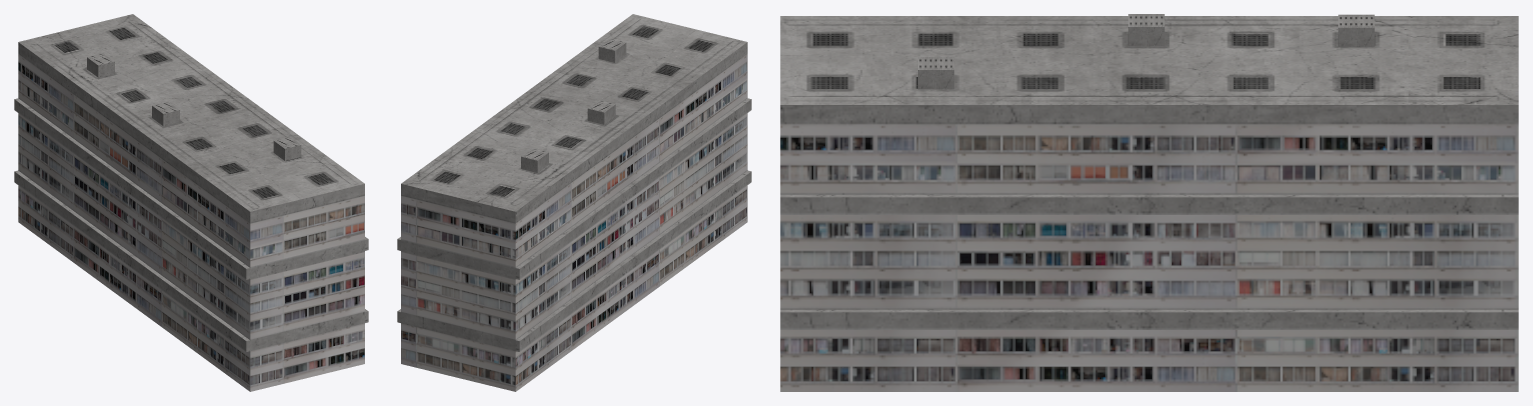
Rendered from HH_Building_Background_03.fbx.
3 renders of one model, left to right at view 1: azimuth 30°, elevation 25°; view 2: azimuth 150°, elevation 25°; view 3: azimuth 270°, elevation 25°, orthographic. The views are drawn at different scales.
Parts seen in each view (by area): view 1: HH_Building_Background_03; view 2: HH_Building_Background_03; view 3: HH_Building_Background_03.
Boxes of the visible parts, x1,y1,x2,y2 form: HH_Building_Background_03: (14,14,368,391); HH_Building_Background_03: (397,14,751,391); HH_Building_Background_03: (780,14,1518,391).
Size of the model in its own units: 170 by 256 by 560.
